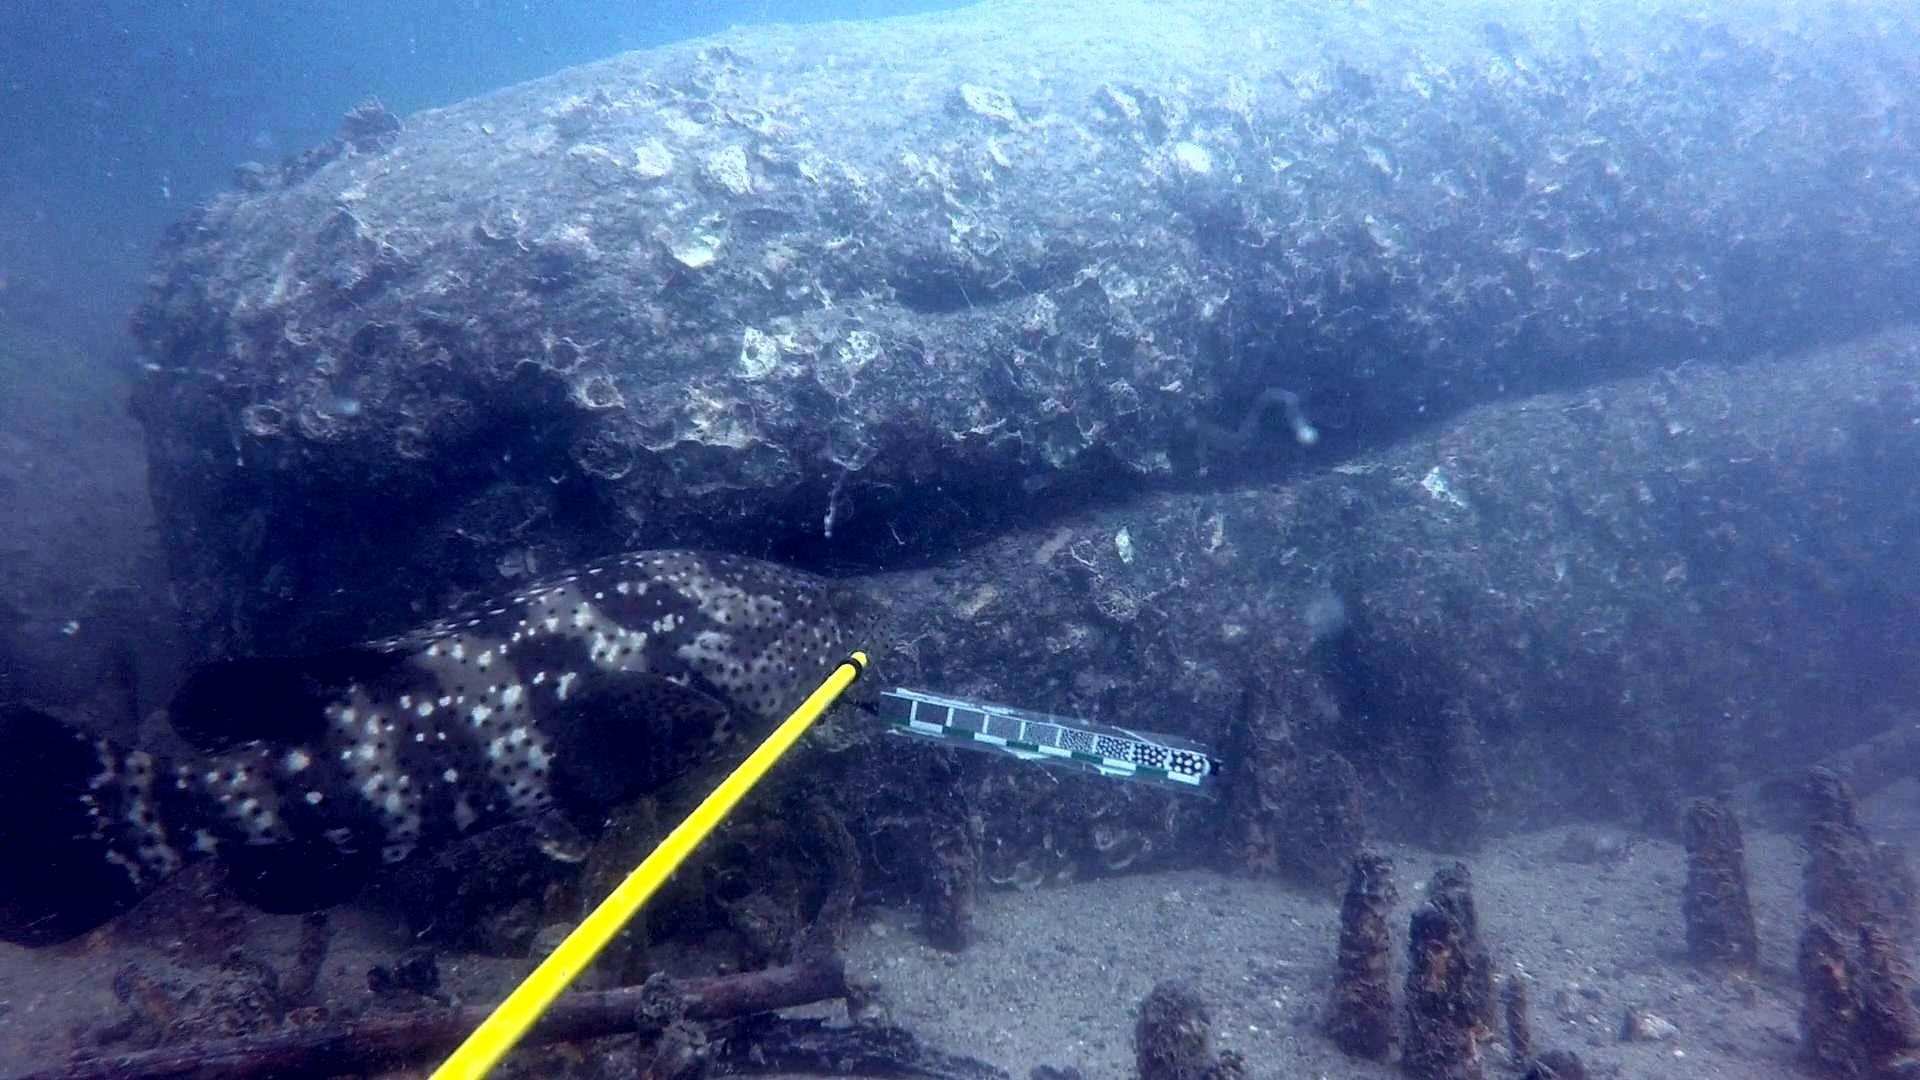epinephelus: (0, 546, 907, 955)
